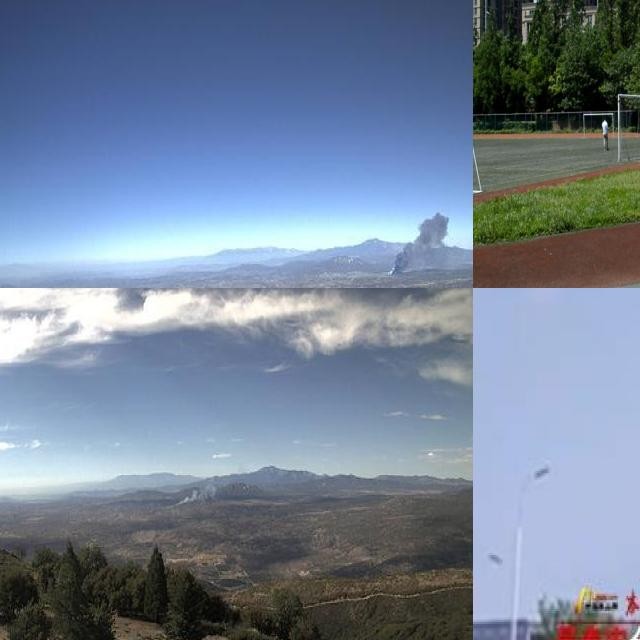smoke: (381, 207, 453, 281), (164, 471, 225, 507)
